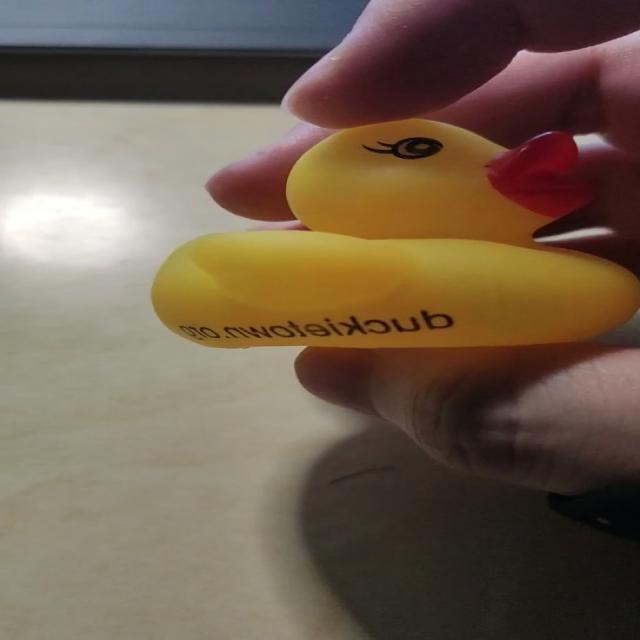rubber-duck: (151, 118, 638, 346)
